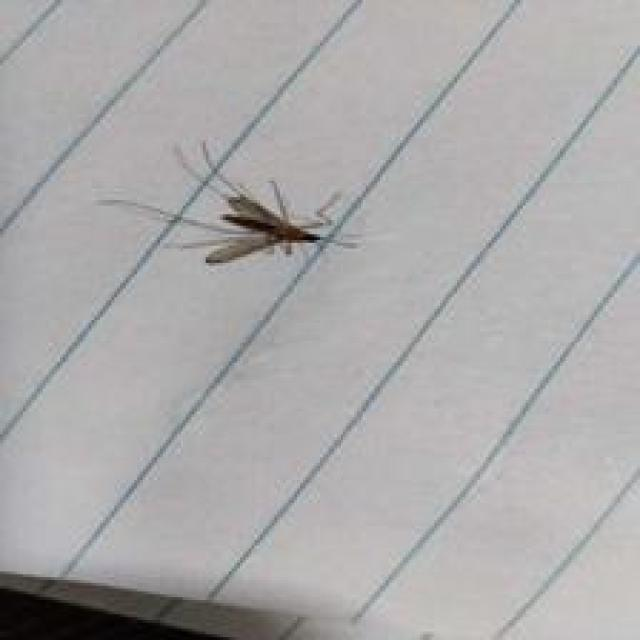Culex: (167, 176, 359, 267)
